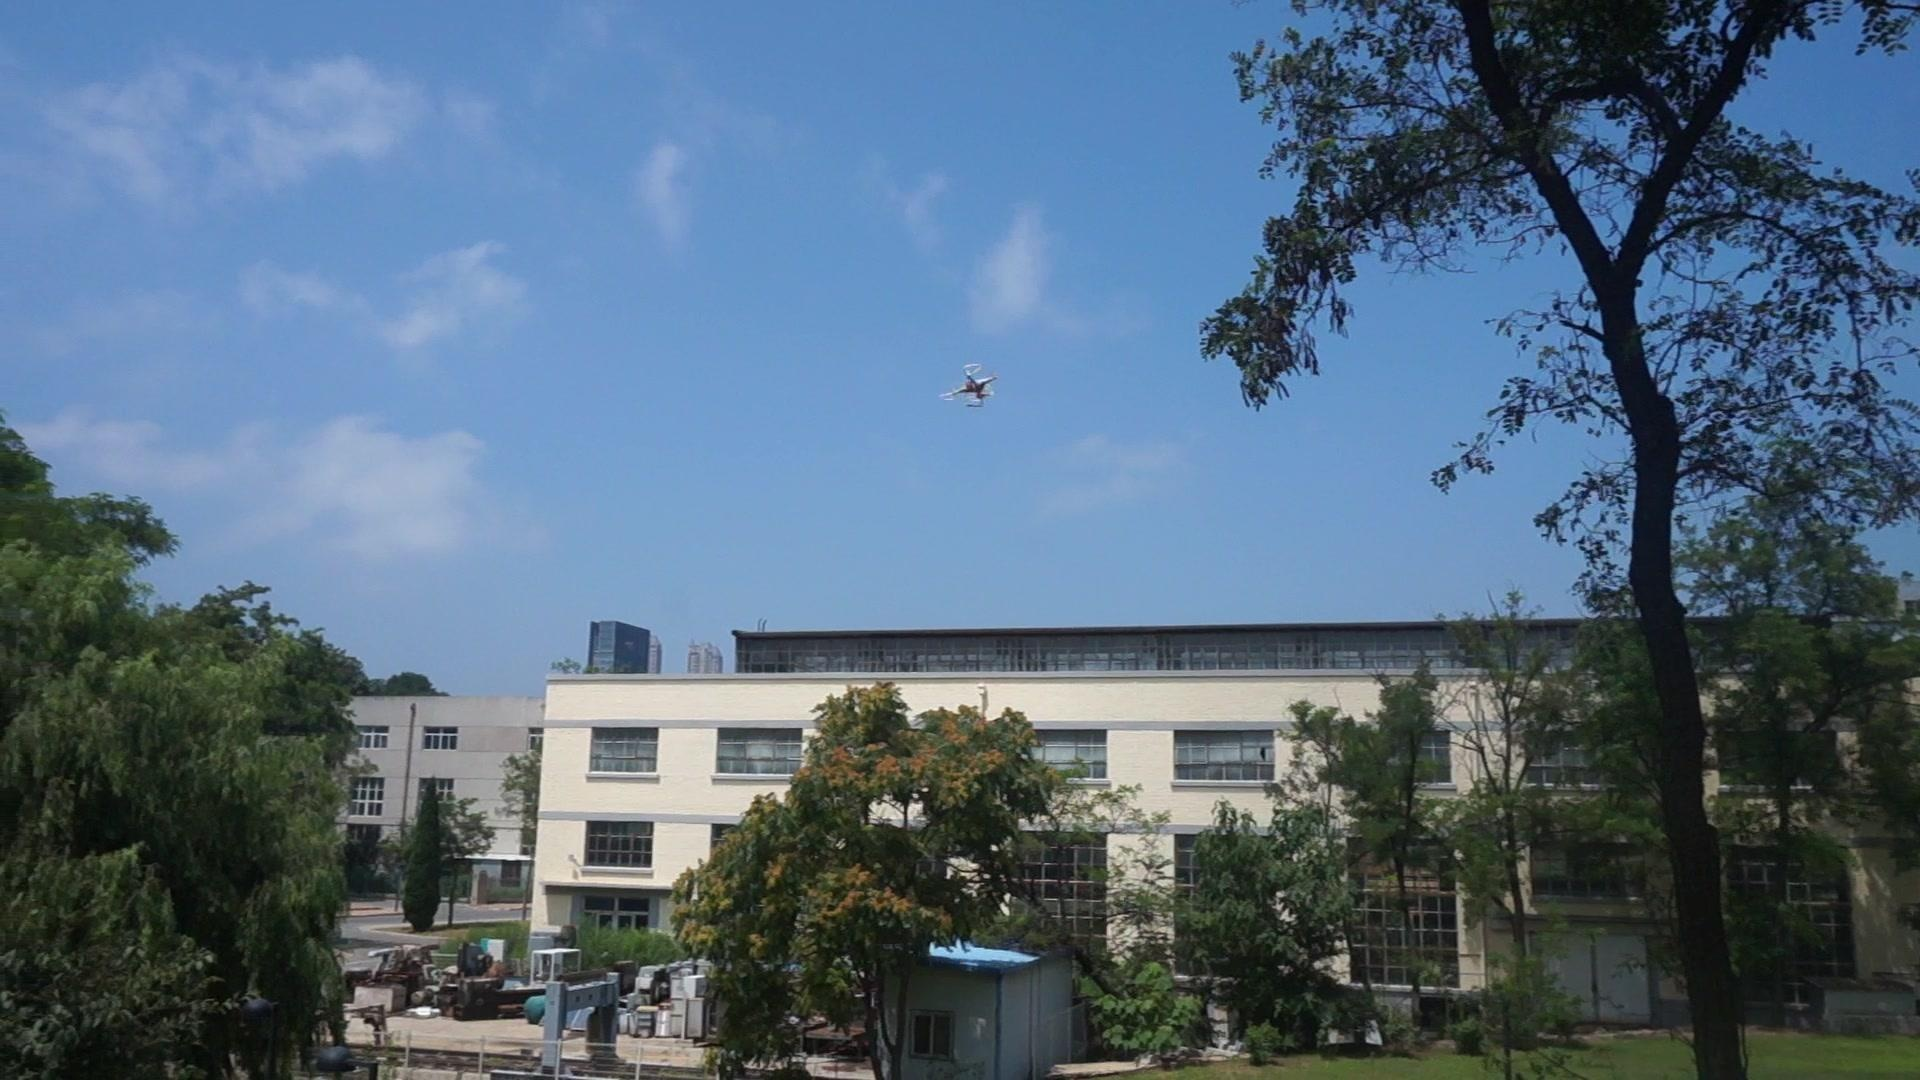UAV: (939, 364, 1000, 407)
